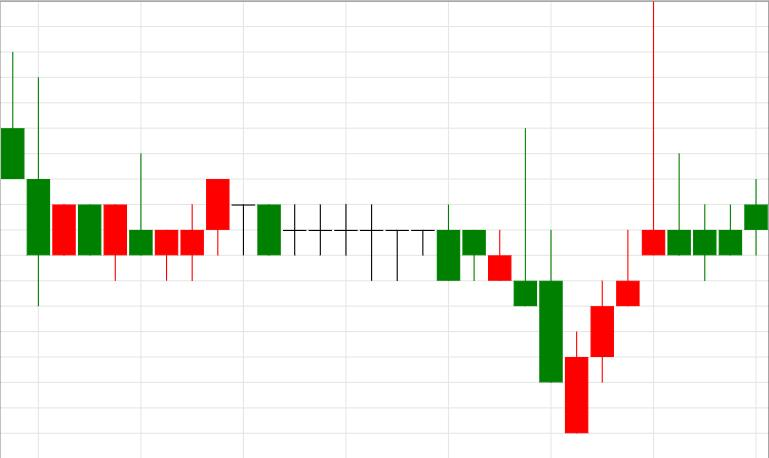shooting_star_fall: (566, 0, 664, 435)
three_white_soldiers_rise: (463, 129, 639, 434)
